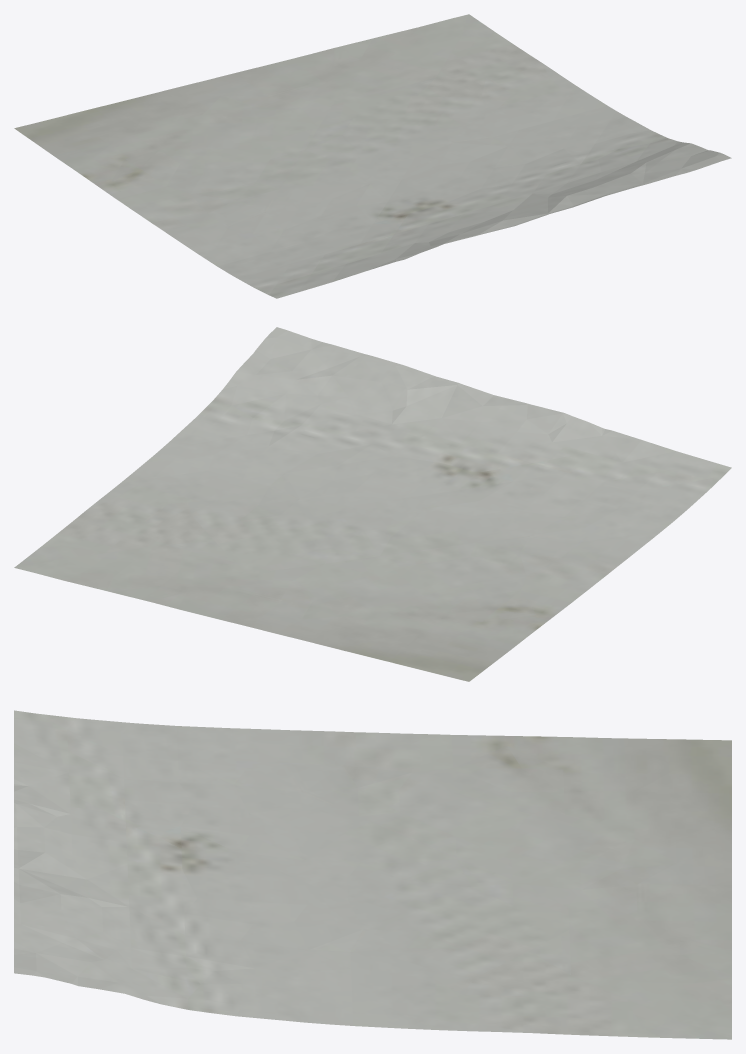
3 views of the same model, one above another, from view 1: azimuth 30°, elevation 25°; view 2: azimuth 150°, elevation 25°; view 3: azimuth 270°, elevation 25° (orthographic). The views are drawn at different scales.
Size of the model in its own units: 52.22 by 5.65 by 52.22.
Materials: 2 (2 with a texture image).
